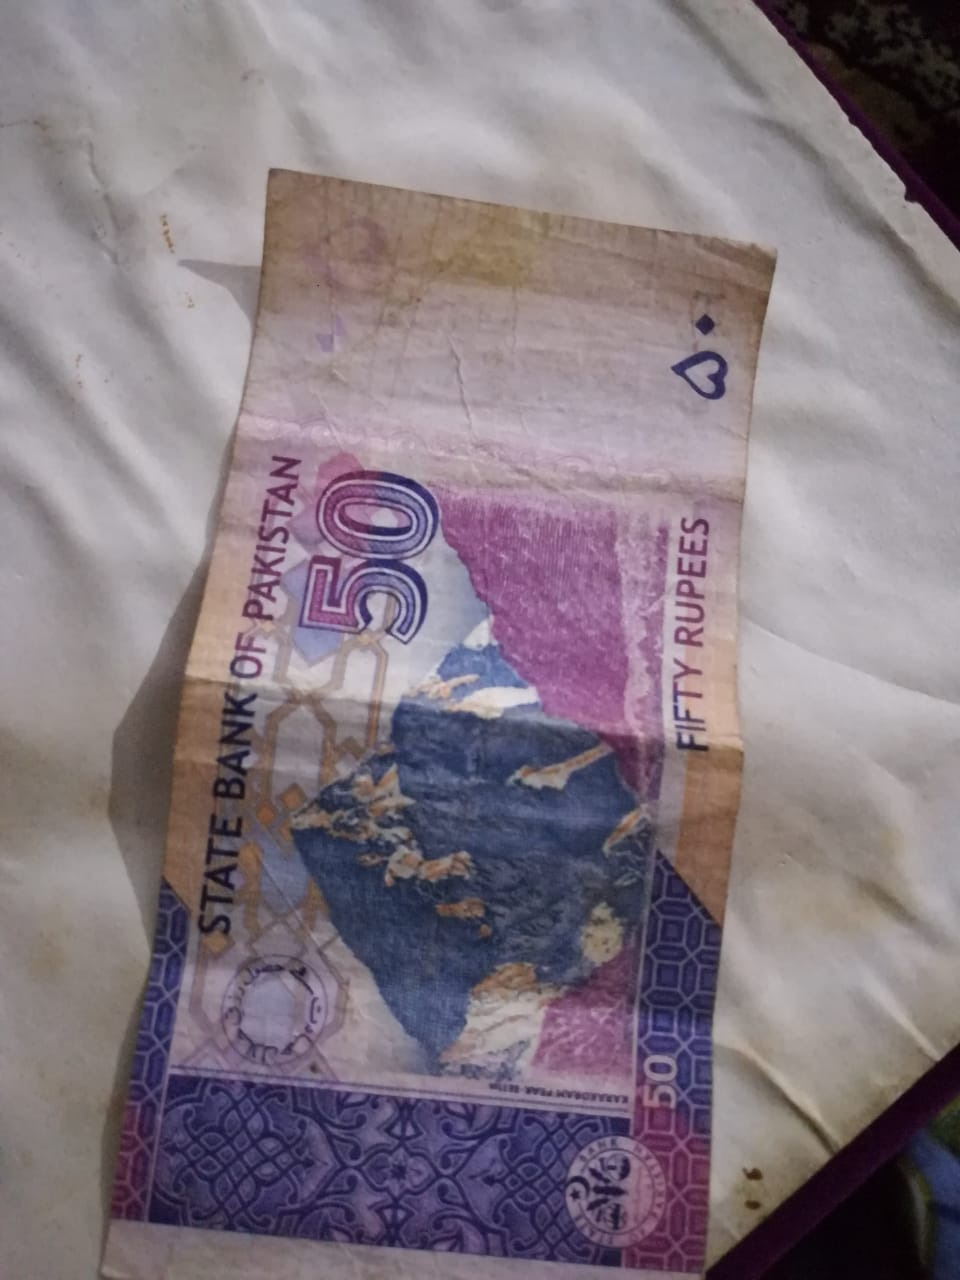50 rupee: (85, 169, 777, 1269)
